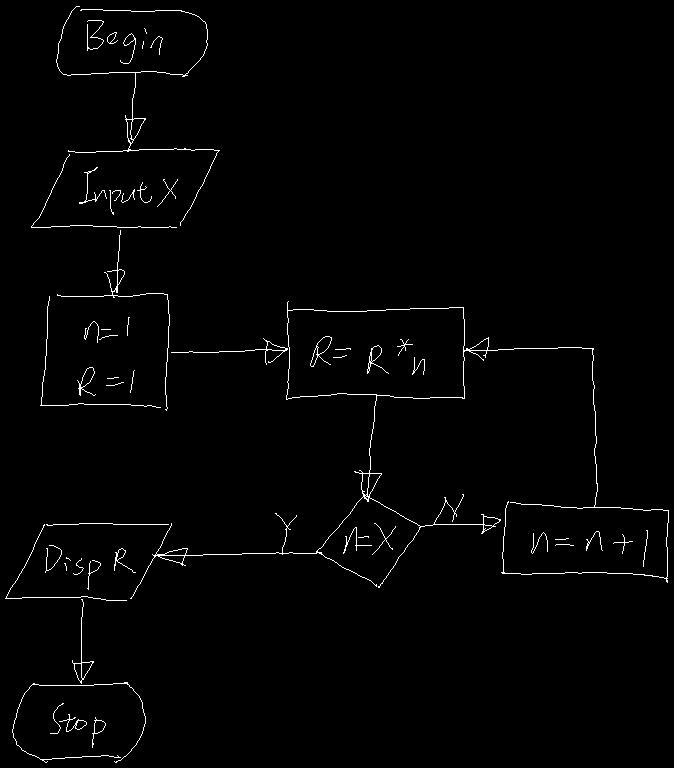arrow: (464, 337, 597, 507), (171, 338, 287, 364), (354, 394, 381, 501), (152, 548, 321, 565), (72, 599, 93, 683), (125, 73, 145, 151), (419, 514, 500, 533), (104, 230, 124, 297)
data: (31, 148, 219, 227), (5, 523, 171, 600)
decision: (316, 491, 421, 587)
process: (286, 301, 464, 399), (40, 293, 169, 410), (501, 501, 668, 582)
terminator: (12, 682, 145, 762), (56, 6, 207, 76)
text: (79, 167, 177, 214), (77, 317, 134, 395), (310, 336, 424, 374), (531, 530, 647, 566), (45, 545, 135, 589), (87, 20, 162, 63), (50, 703, 105, 747), (343, 523, 395, 554), (434, 494, 463, 524), (275, 513, 296, 554)
